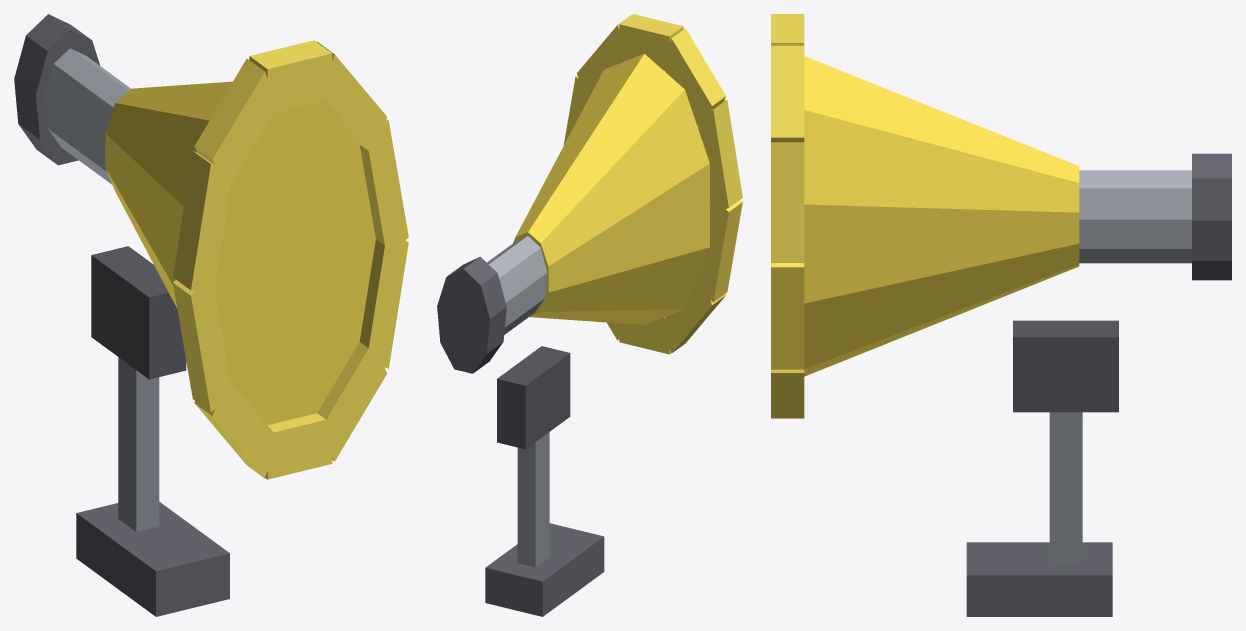
The model's file is horn.glb.
The picture shows the model from 3 angles, left to right: view 1: azimuth 30°, elevation 25°; view 2: azimuth 150°, elevation 25°; view 3: azimuth 270°, elevation 25°; orthographic projection. The views are drawn at different scales.
Parts seen in each view (by area): view 1: horn; view 2: horn; view 3: horn.
Part boxes in pixels (<box>): horn: <box>14,14,408,616</box>; horn: <box>437,14,742,616</box>; horn: <box>771,14,1231,616</box>.
Bounding box in the file's own units: 0.25 × 0.685 × 0.5.
